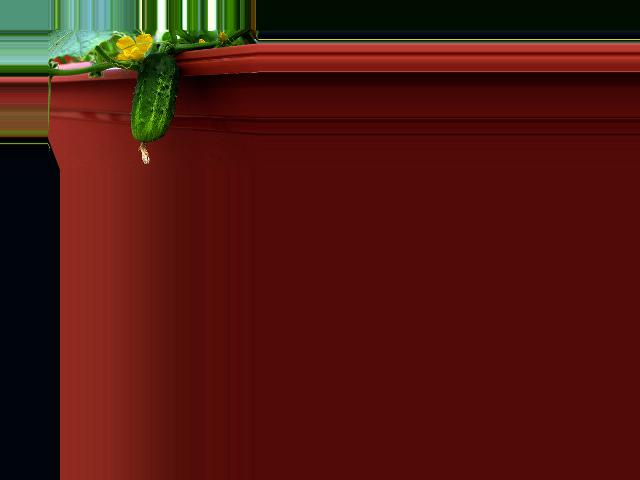cucumber: (130, 52, 178, 165)
